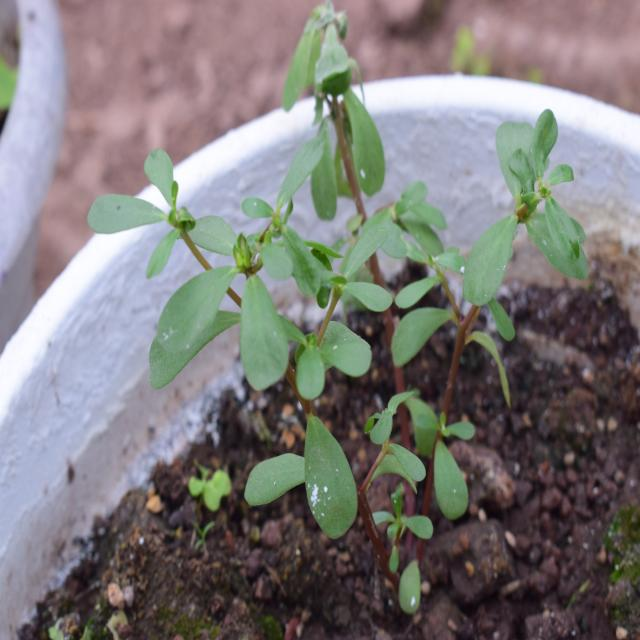purslane: (88, 144, 444, 535), (400, 80, 599, 412)
